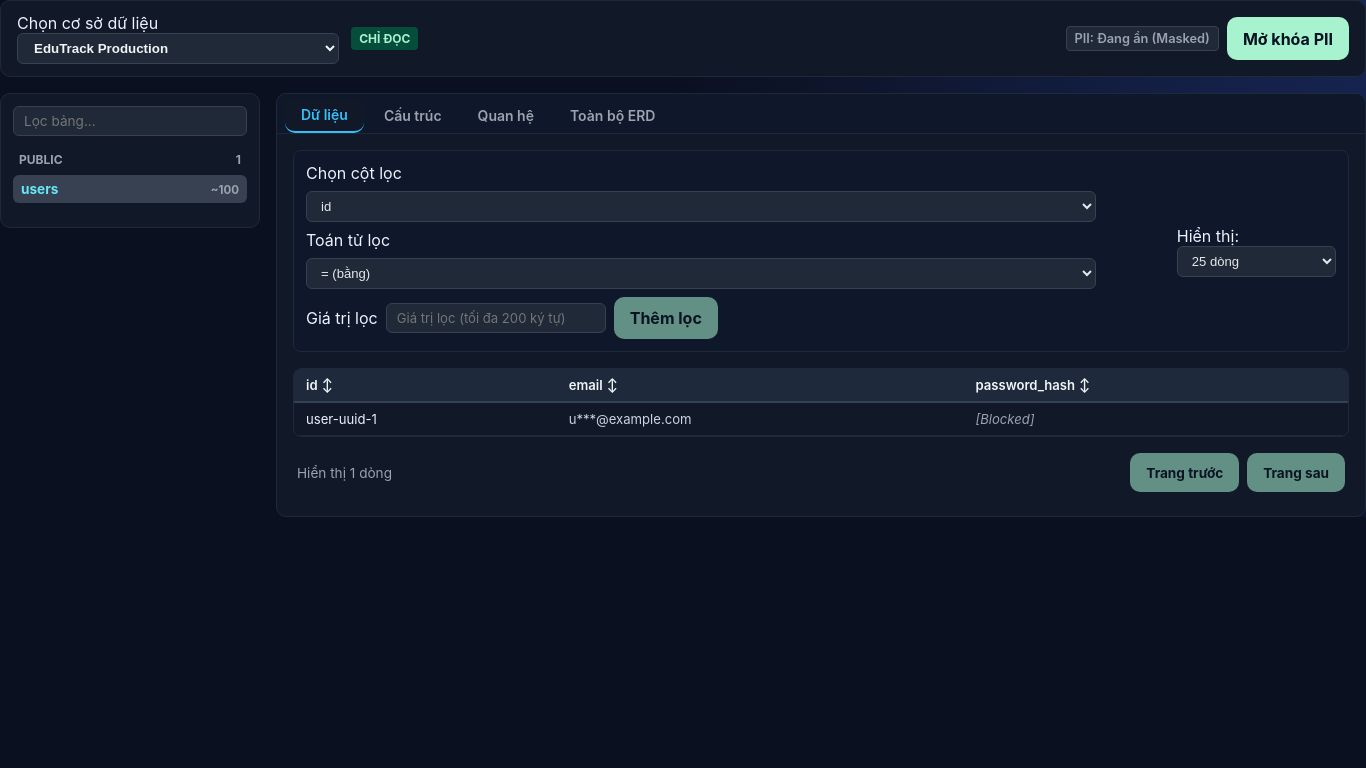
Test case: DatabasePage component › owner can open PII reveal dialog and see privacy controls
The image size is (1366, 768).
Step 1. Click the button "Mở khóa PII" → (1288, 38), box [1227,17,1349,60]
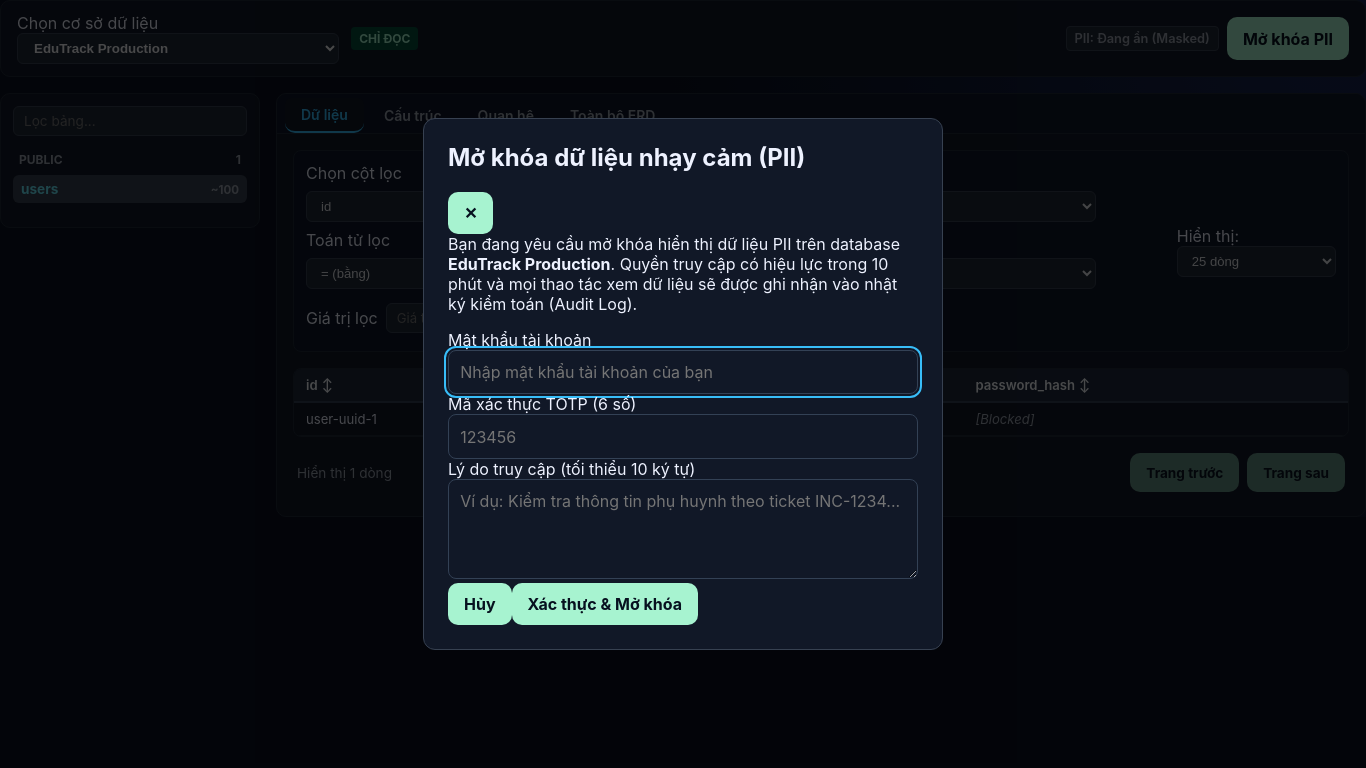
expect the heading "Mở khóa dữ liệu nhạy cảm (PII)" is shown: met, box [448,143,805,172]
